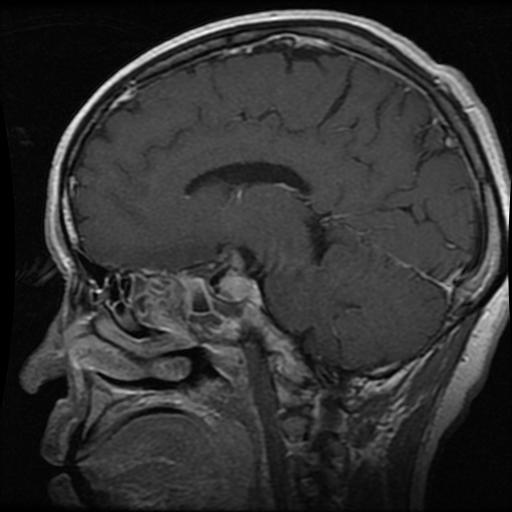Pituirity_tumour: (216, 266, 262, 304)
